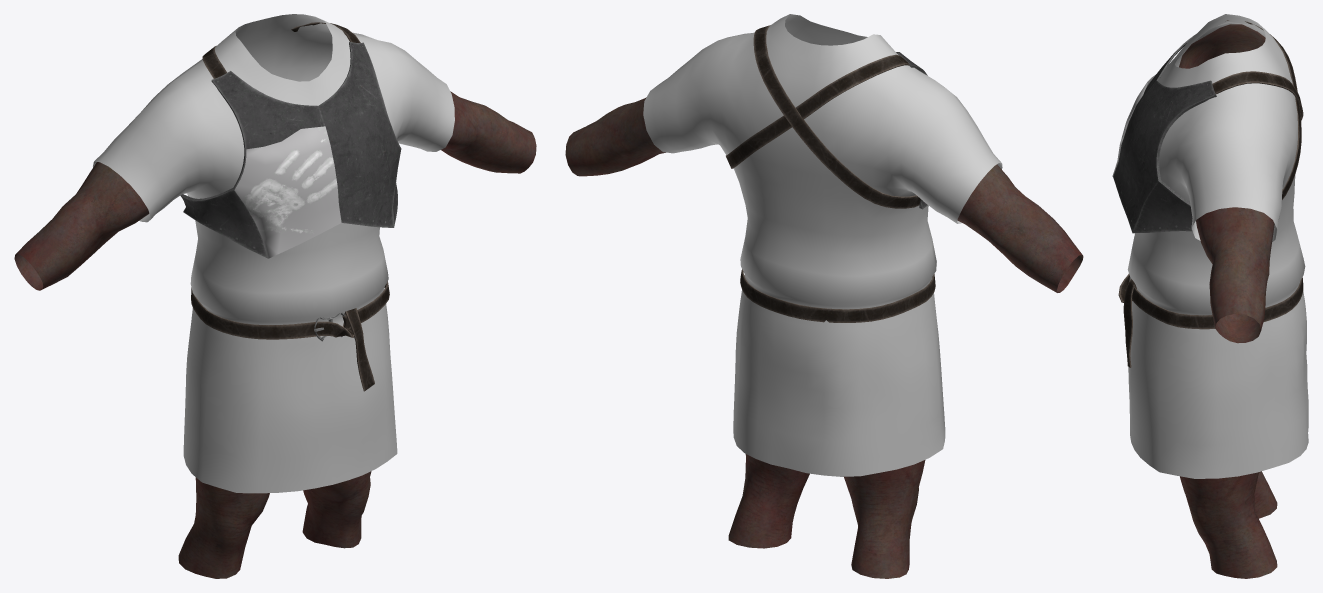
Rendered from sk_uruk_hai_plate_light_b1.fbx.
3 renders of one model, left to right at view 1: azimuth 30°, elevation 25°; view 2: azimuth 150°, elevation 25°; view 3: azimuth 270°, elevation 25°, orthographic. The views are drawn at different scales.
Visible parts, largest first — view 1: sk_uruk_hai_plate_light_b1.3, sk_uruk_hai_plate_light_b1.1, sk_uruk_hai_plate_light_b1.body.1, sk_uruk_hai_plate_light_b1.2, sk_uruk_hai_plate_light_b1.body.0, sk_uruk_hai_plate_light_b1.0; view 2: sk_uruk_hai_plate_light_b1.3, sk_uruk_hai_plate_light_b1.body.1, sk_uruk_hai_plate_light_b1.body.0, sk_uruk_hai_plate_light_b1.0; view 3: sk_uruk_hai_plate_light_b1.3, sk_uruk_hai_plate_light_b1.body.1, sk_uruk_hai_plate_light_b1.1, sk_uruk_hai_plate_light_b1.body.0, sk_uruk_hai_plate_light_b1.0, sk_uruk_hai_plate_light_b1.2.
Part boxes in pixels (bbox=[...]): sk_uruk_hai_plate_light_b1.3: bbox=[93, 14, 454, 493]; sk_uruk_hai_plate_light_b1.1: bbox=[180, 42, 401, 258]; sk_uruk_hai_plate_light_b1.body.1: bbox=[14, 91, 536, 290]; sk_uruk_hai_plate_light_b1.2: bbox=[234, 126, 341, 258]; sk_uruk_hai_plate_light_b1.body.0: bbox=[178, 471, 371, 578]; sk_uruk_hai_plate_light_b1.0: bbox=[184, 22, 389, 391]; sk_uruk_hai_plate_light_b1.3: bbox=[643, 14, 1002, 476]; sk_uruk_hai_plate_light_b1.body.1: bbox=[565, 97, 1083, 292]; sk_uruk_hai_plate_light_b1.body.0: bbox=[728, 454, 925, 578]; sk_uruk_hai_plate_light_b1.0: bbox=[726, 25, 935, 322]; sk_uruk_hai_plate_light_b1.3: bbox=[1127, 14, 1308, 478]; sk_uruk_hai_plate_light_b1.body.1: bbox=[1179, 24, 1274, 343]; sk_uruk_hai_plate_light_b1.1: bbox=[1113, 34, 1216, 233]; sk_uruk_hai_plate_light_b1.body.0: bbox=[1180, 471, 1277, 578]; sk_uruk_hai_plate_light_b1.0: bbox=[1118, 20, 1303, 367]; sk_uruk_hai_plate_light_b1.2: bbox=[1112, 74, 1155, 176].
Size of the model in its own units: 1.2 by 0.4185 by 1.19.
